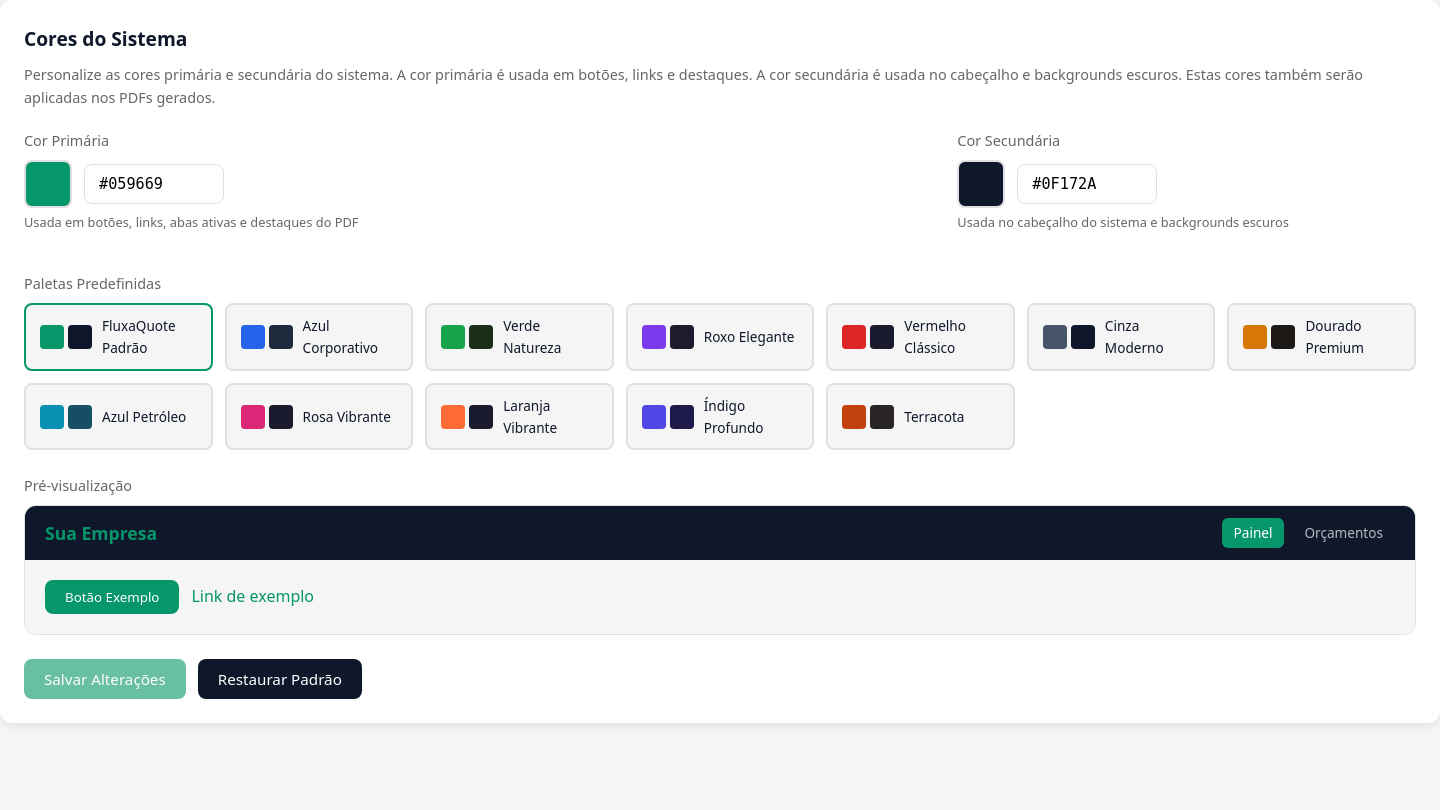
Test case: LayoutTab › Salvar › deve mostrar erro para cor primária inválida
In the 1st field with placeholder "#059669": (154, 184) left=84, top=164, right=224, bottom=204, type "invalid"
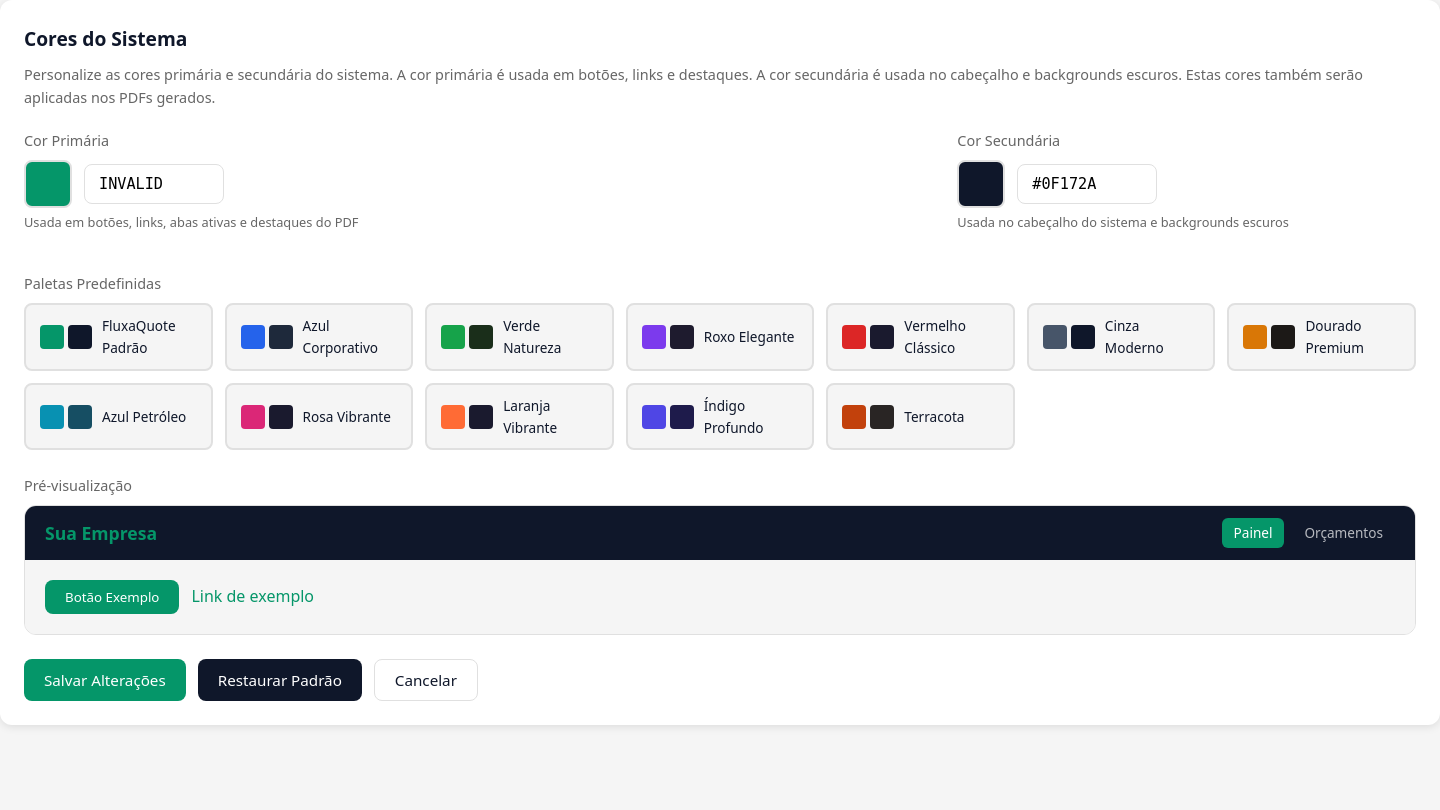
Click the button "Salvar Alterações": (105, 680) left=24, top=659, right=186, bottom=701
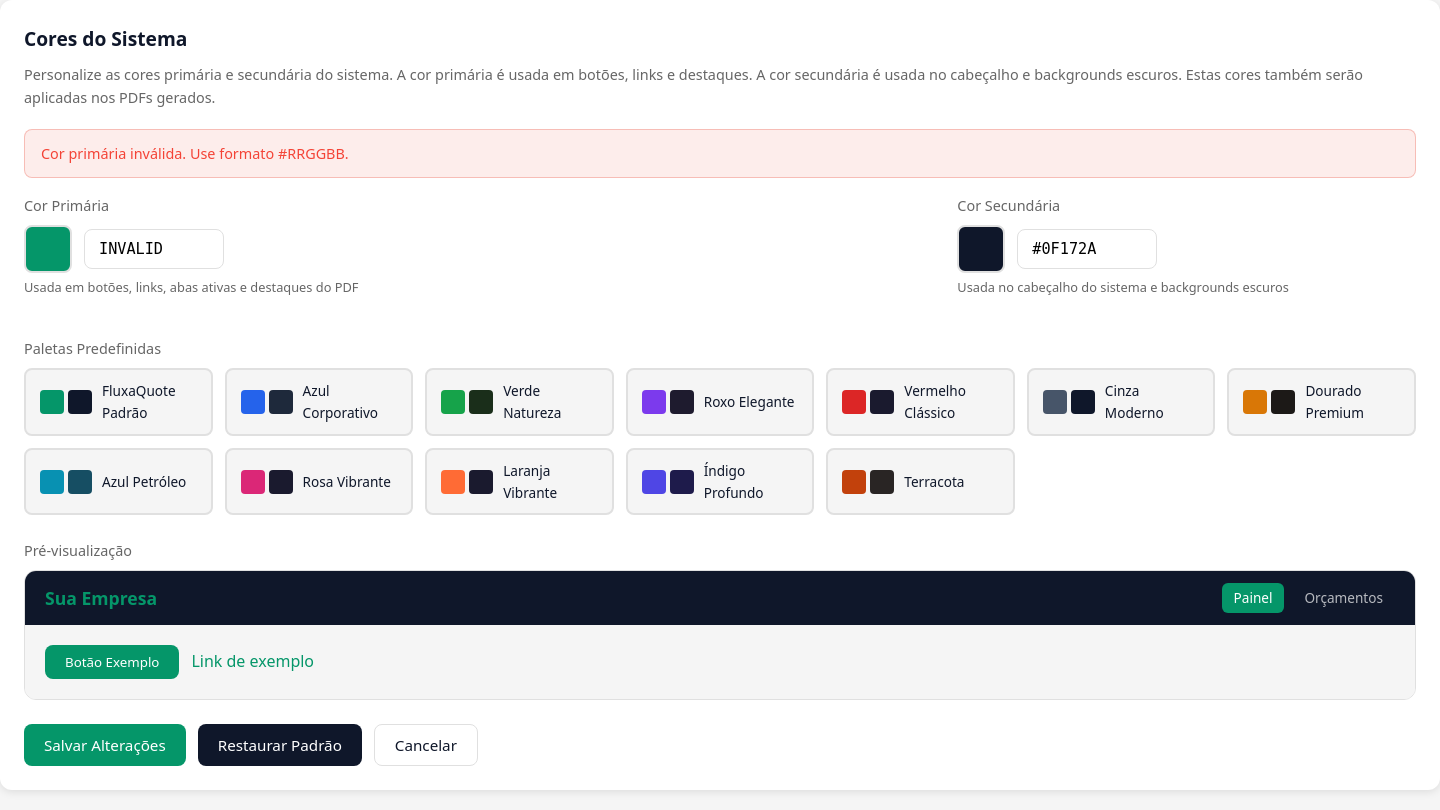
Expected: the text "Cor primária inválida. Use formato #RRGGBB." is shown, left=24, top=129, right=1416, bottom=178
